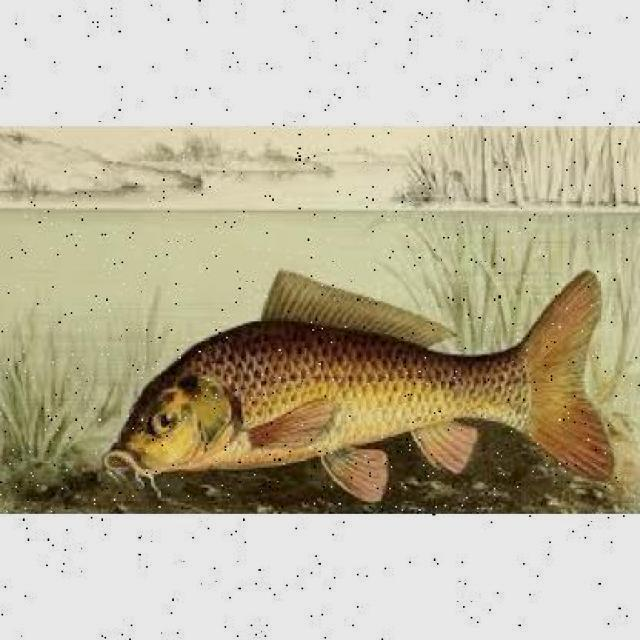ikan-mas: (109, 280, 612, 498)
